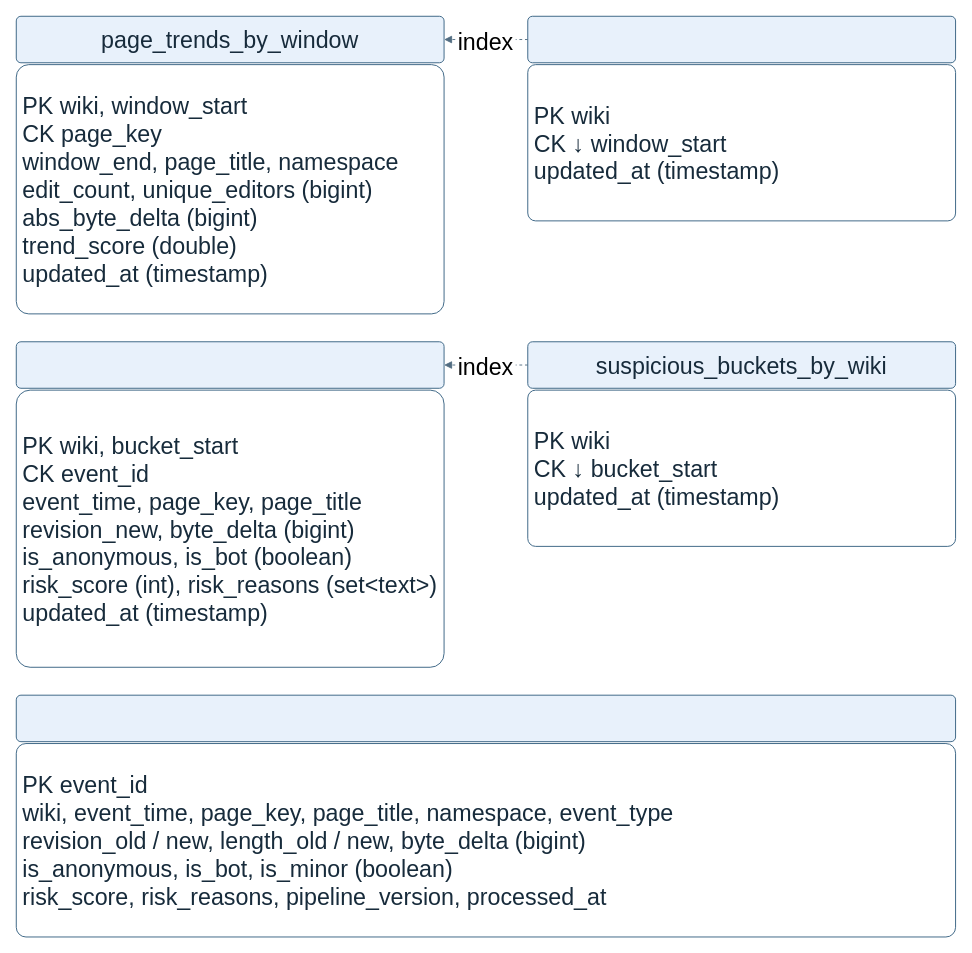
This 972x953 diagram has some shape labels left out. The shapes that lost their labels are listed below. From the top down, each one's centre as x and y in pixels, then its label:
[741,39]: trend_windows_by_wiki
[229,364]: suspicious_edits_by_bucket
[485,718]: events_by_id (TTL 7 ngày)
